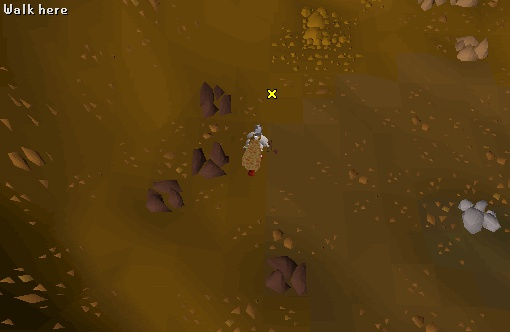copper: (447, 30, 499, 69)
iron: (257, 246, 319, 308), (133, 167, 195, 229), (180, 129, 242, 191), (183, 66, 245, 128)
